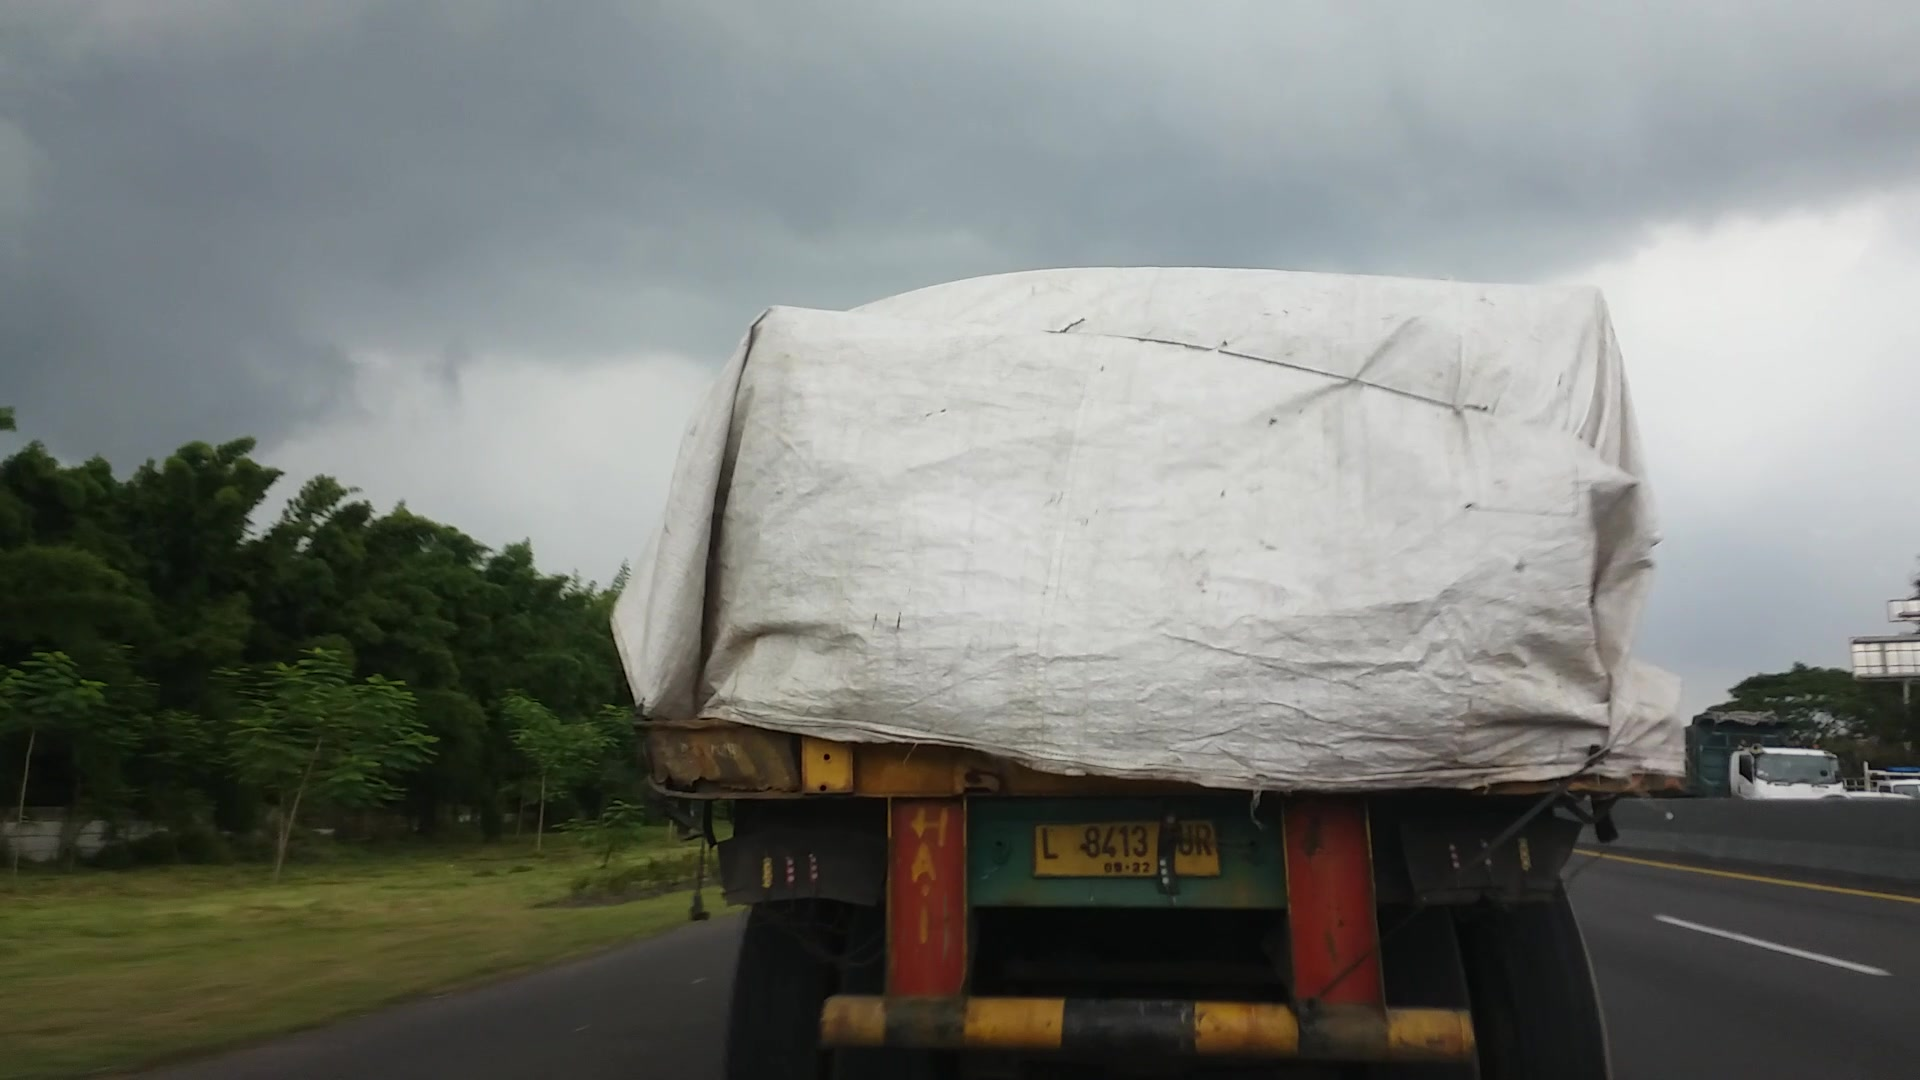plate_positive: (1034, 818, 1222, 880)
